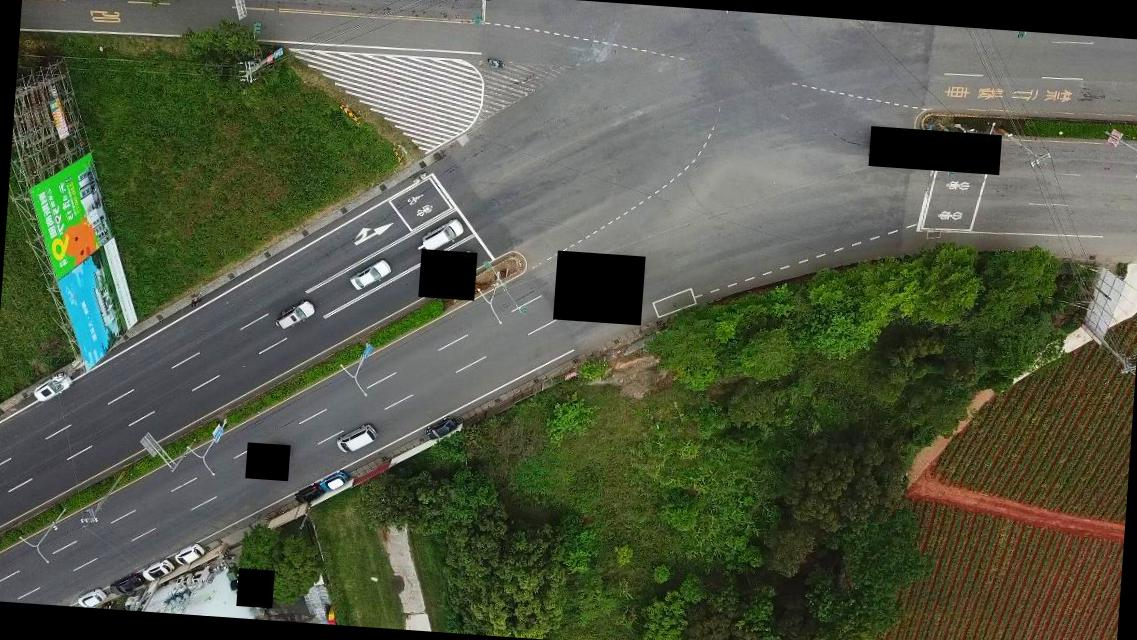vehicle: (333, 422, 378, 455), (420, 218, 463, 252), (31, 368, 71, 404), (349, 258, 390, 292), (274, 298, 315, 330), (422, 415, 456, 442), (173, 540, 205, 566), (142, 557, 174, 583), (108, 572, 142, 596), (292, 481, 321, 506), (75, 586, 107, 608), (320, 469, 346, 493)
